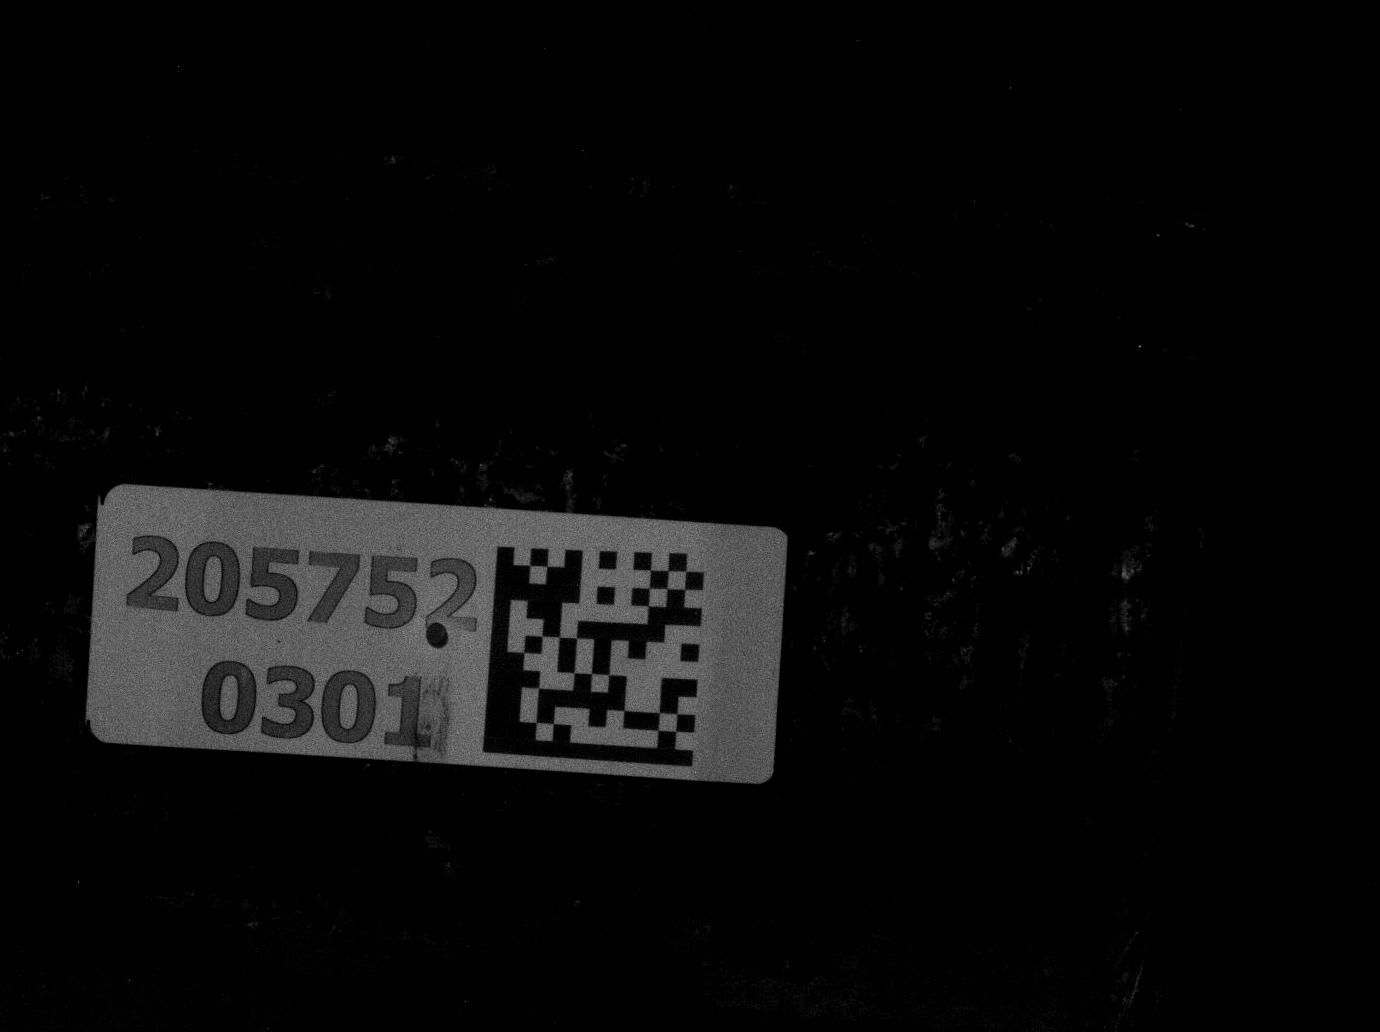data matrix: (476, 536, 718, 774)
